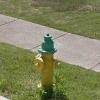Hydrant: (27, 27, 64, 95)
